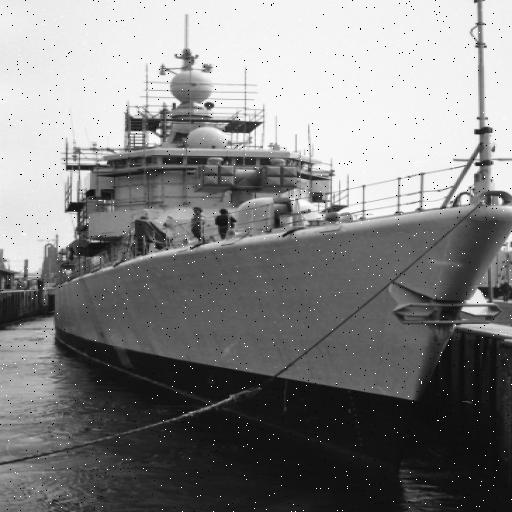Fragata: (49, 7, 512, 469)
